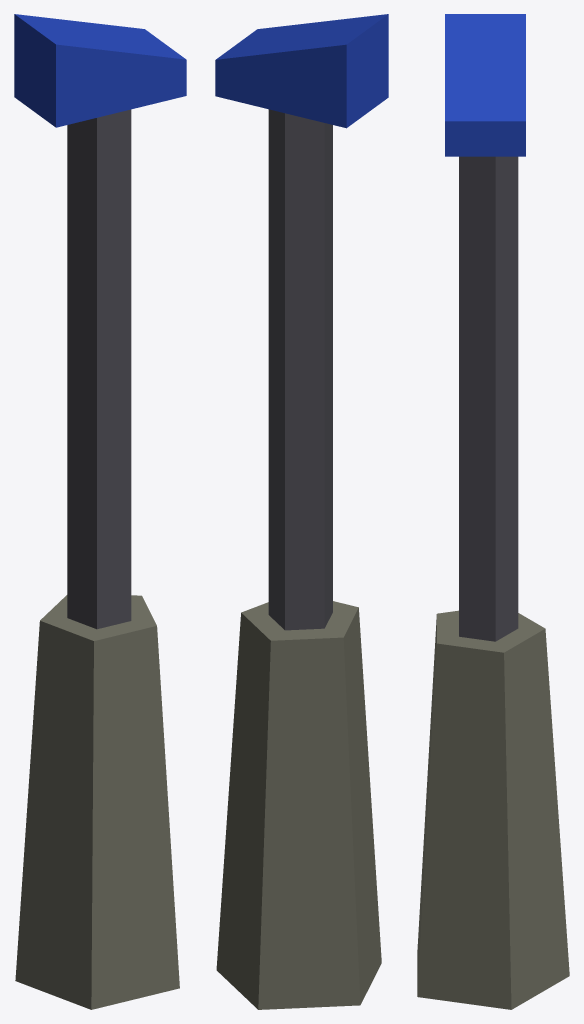
The model's file is LPSciFiCharacter_MastC.fbx.
3 renders of one model, left to right at view 1: azimuth 30°, elevation 25°; view 2: azimuth 150°, elevation 25°; view 3: azimuth 270°, elevation 25°, orthographic. The views are drawn at different scales.
Visible parts, largest first — view 1: MastC; view 2: MastC; view 3: MastC.
Part boxes in pixels (bbox=[...]): MastC: bbox=[14, 14, 186, 1009]; MastC: bbox=[215, 14, 388, 1009]; MastC: bbox=[417, 14, 569, 1009].
Bounding box in the file's own units: 29.14 × 187 × 27.71.
